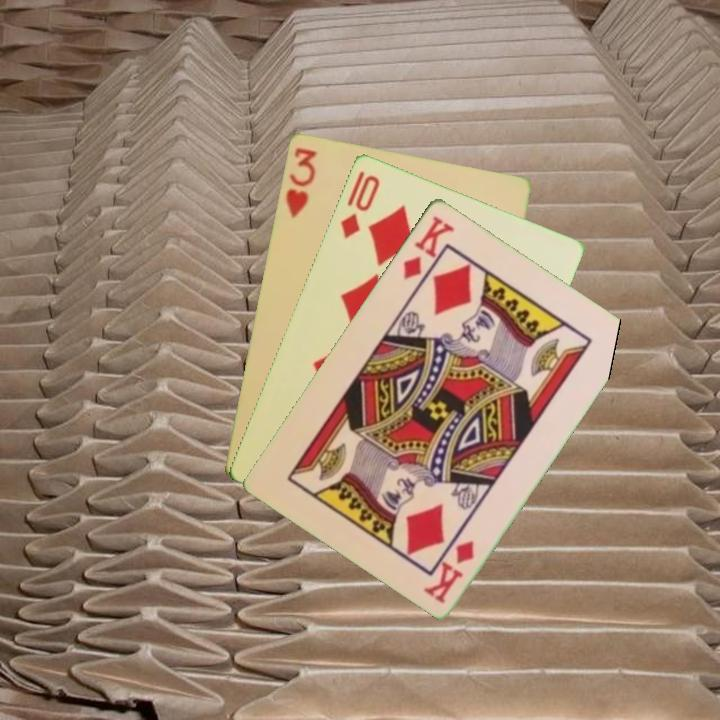10d: (336, 167, 383, 242)
3h: (282, 143, 319, 221)
Kd: (399, 211, 457, 282), (421, 535, 478, 606)
